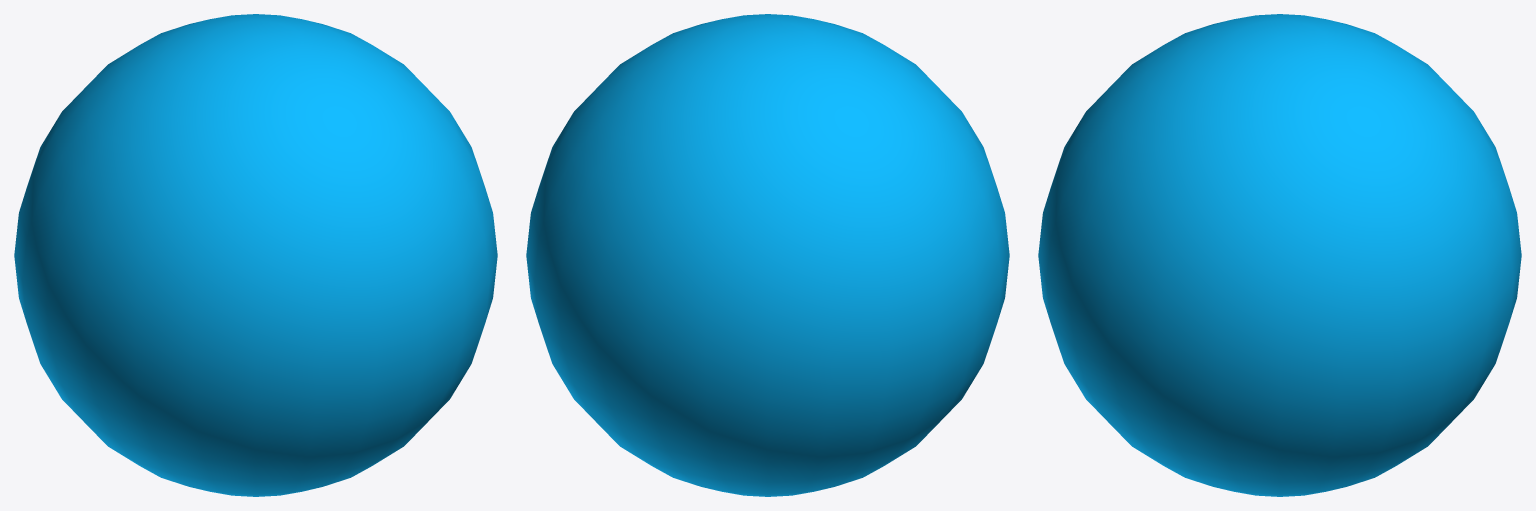
3 renders of one model, left to right at view 1: azimuth 30°, elevation 25°; view 2: azimuth 150°, elevation 25°; view 3: azimuth 270°, elevation 25°, orthographic.
Parts seen in each view (by area): view 1: Sphere_M_cyan; view 2: Sphere_M_cyan; view 3: Sphere_M_cyan.
Boxes of the visible parts, x1,y1,x2,y2 form: Sphere_M_cyan: (14, 14, 497, 496); Sphere_M_cyan: (526, 14, 1009, 496); Sphere_M_cyan: (1038, 14, 1521, 496).
Size of the model in its own units: 1 by 1 by 1.
